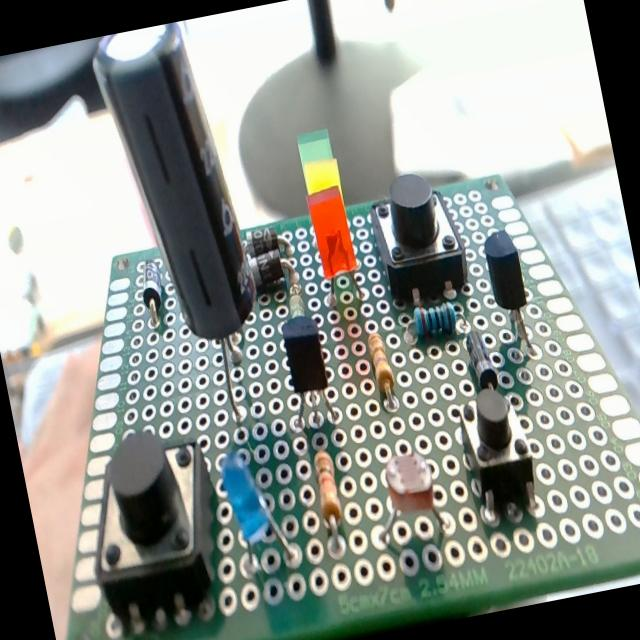Electrolytic capacitor: (86, 16, 282, 437)
cds: (373, 444, 453, 554)
diode: (463, 326, 500, 394), (136, 258, 170, 324), (246, 248, 287, 294), (249, 225, 280, 257)
led: (214, 441, 298, 576), (304, 180, 369, 314)
resistor: (308, 449, 351, 556), (366, 330, 398, 400), (413, 300, 460, 342)
switch: (70, 418, 236, 634), (365, 170, 475, 316), (453, 378, 543, 520)
transistor: (274, 308, 343, 434), (480, 226, 540, 362)
